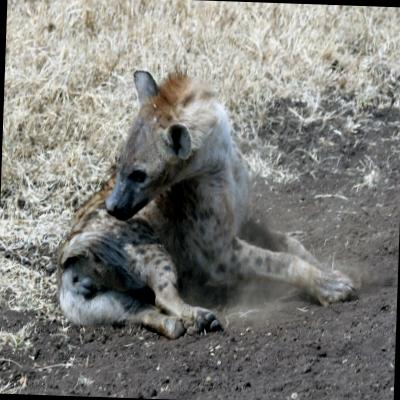hyenas: (52, 31, 320, 364)
